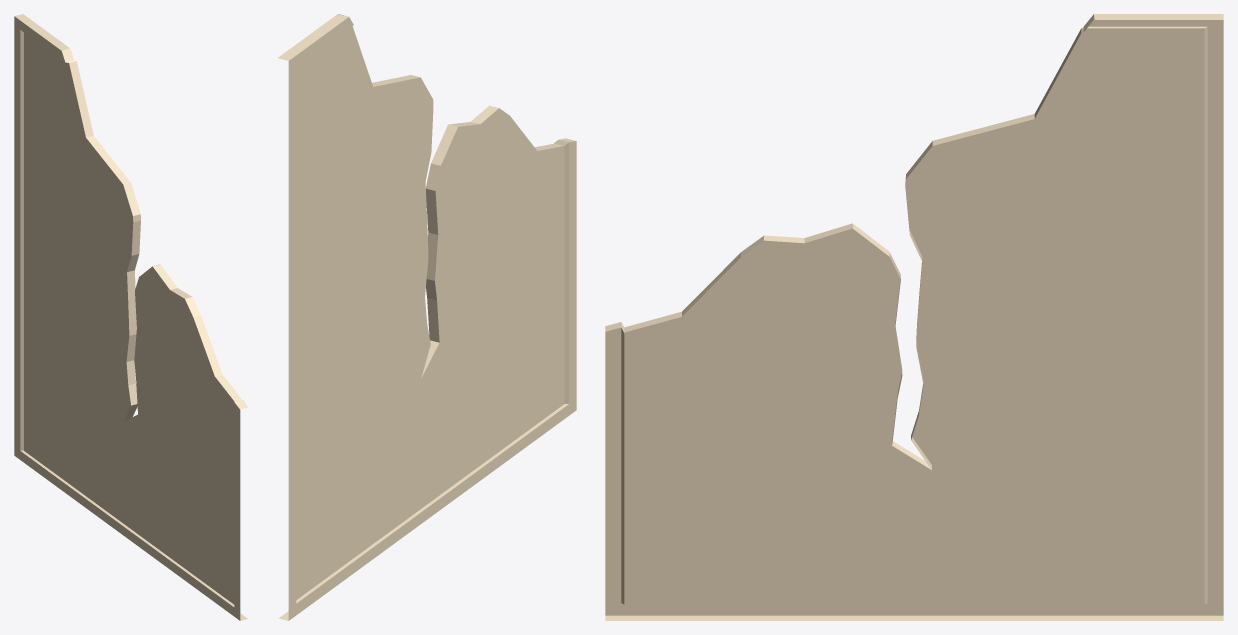
The model's file is Boiserie_Broken01.fbx.
3 views of the same model, side by side, from view 1: azimuth 30°, elevation 25°; view 2: azimuth 150°, elevation 25°; view 3: azimuth 270°, elevation 25° (orthographic). The views are drawn at different scales.
Visible parts, largest first — view 1: Cube.040; view 2: Cube.040; view 3: Cube.040.
Part boxes in pixels (box(x1,y1,x2,y2)): Cube.040: box(14, 14, 248, 620); Cube.040: box(277, 14, 576, 620); Cube.040: box(605, 14, 1223, 620).
Size of the model in its own units: 5.65 by 212 by 198.
